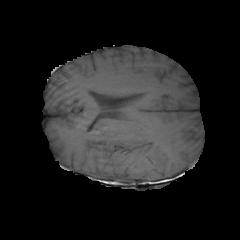glioma: (103, 128, 169, 173)
